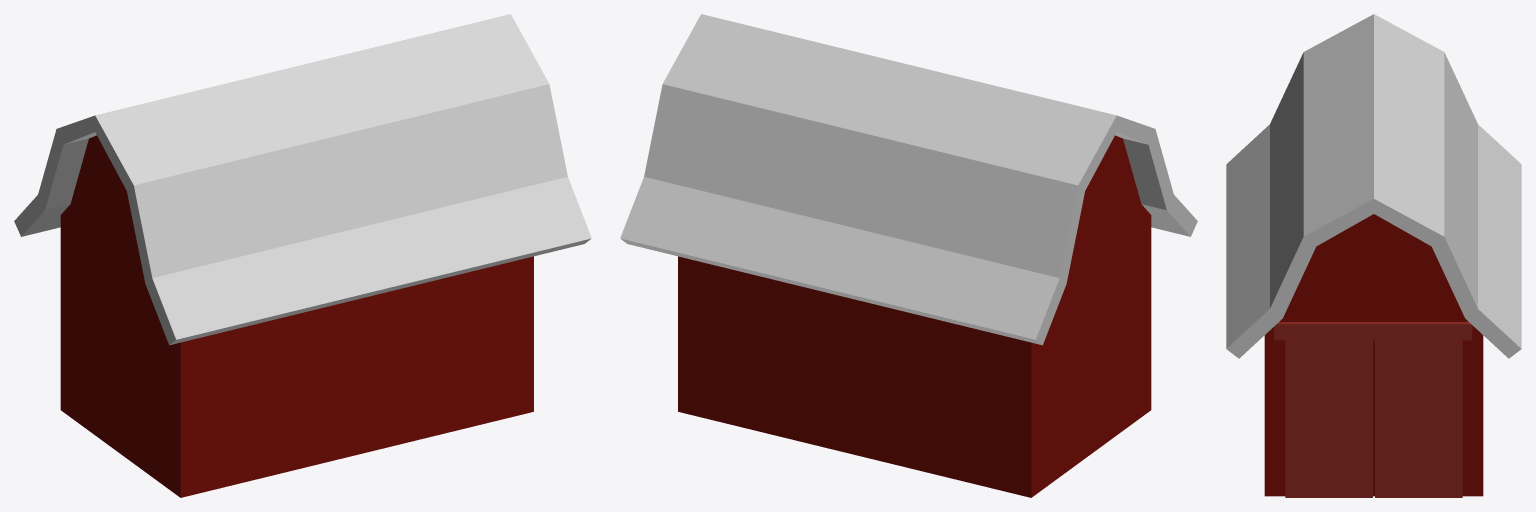
The model's file is Barn.FBX.
3 renders of one model, left to right at view 1: azimuth 30°, elevation 25°; view 2: azimuth 150°, elevation 25°; view 3: azimuth 270°, elevation 25°, orthographic. The views are drawn at different scales.
Visible parts, largest first — view 1: Box005, Box001, Box006; view 2: Box006, Box001, Box005; view 3: Box005, Box006, Box001, Box002, Box003, Box004.
Boxes of the visible parts, bbox=[...] form: Box005: bbox=[95, 14, 591, 345]; Box001: bbox=[60, 135, 533, 497]; Box006: bbox=[14, 115, 96, 236]; Box006: bbox=[620, 14, 1116, 345]; Box001: bbox=[678, 135, 1151, 497]; Box005: bbox=[1115, 115, 1197, 236]; Box005: bbox=[1226, 14, 1373, 358]; Box006: bbox=[1374, 14, 1521, 358]; Box001: bbox=[1264, 214, 1483, 496]; Box002: bbox=[1375, 340, 1462, 497]; Box003: bbox=[1285, 340, 1372, 497]; Box004: bbox=[1274, 322, 1472, 340].
Bounding box in the file's own units: 200 × 159 × 135.
